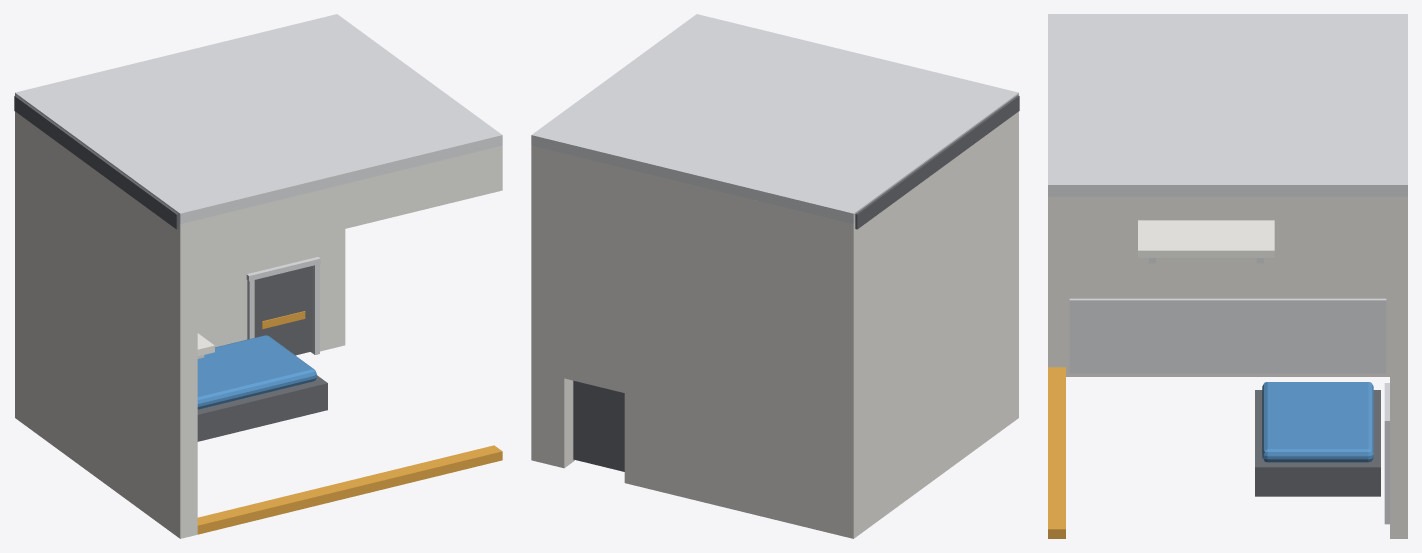
File: boarding-kennels-and-cattery-boarding-kennels-and-catt-b983ba2d__35531.glb
3 views of the same model, side by side, from view 1: azimuth 30°, elevation 25°; view 2: azimuth 150°, elevation 25°; view 3: azimuth 270°, elevation 25° (orthographic). The views are drawn at different scales.
Parts seen in each view (by area): view 1: boarding-kennels-and-cattery-kennel-bay-module-wide, pop-hatch/charcoal; view 2: boarding-kennels-and-cattery-kennel-bay-module-wide, pop-hatch/charcoal; view 3: boarding-kennels-and-cattery-kennel-bay-module-wide.
Part boxes in pixels (<box>): boarding-kennels-and-cattery-kennel-bay-module-wide: <box>14,14,502,538</box>; pop-hatch/charcoal: <box>254,266,312,355</box>; boarding-kennels-and-cattery-kennel-bay-module-wide: <box>531,14,1019,538</box>; pop-hatch/charcoal: <box>573,380,624,471</box>; boarding-kennels-and-cattery-kennel-bay-module-wide: <box>1048,14,1407,538</box>.
Bounding box in the file's own units: 2.27 × 2.17 × 2.
